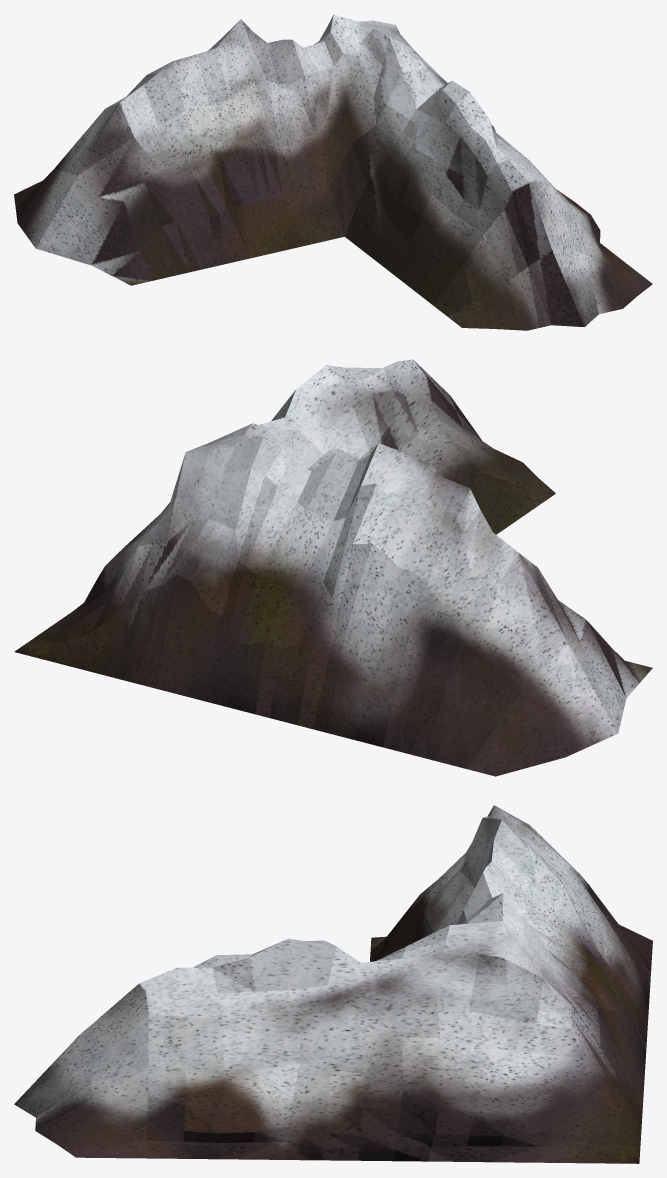
File: big ridge.fbx
3 renders of one model, top to bottom at view 1: azimuth 30°, elevation 25°; view 2: azimuth 150°, elevation 25°; view 3: azimuth 270°, elevation 25°, orthographic. The views are drawn at different scales.
Parts seen in each view (by area): view 1: Cliffs; view 2: Cliffs; view 3: Cliffs.
Part boxes in pixels (x1,y1,x2,y2): Cliffs: [14, 14, 652, 330]; Cliffs: [14, 359, 652, 776]; Cliffs: [14, 805, 652, 1163].
Bounding box in the file's own units: 465 × 187 × 513.
